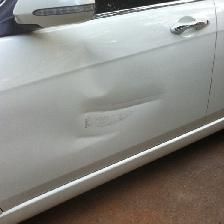door_dent: (35, 44, 198, 157)
